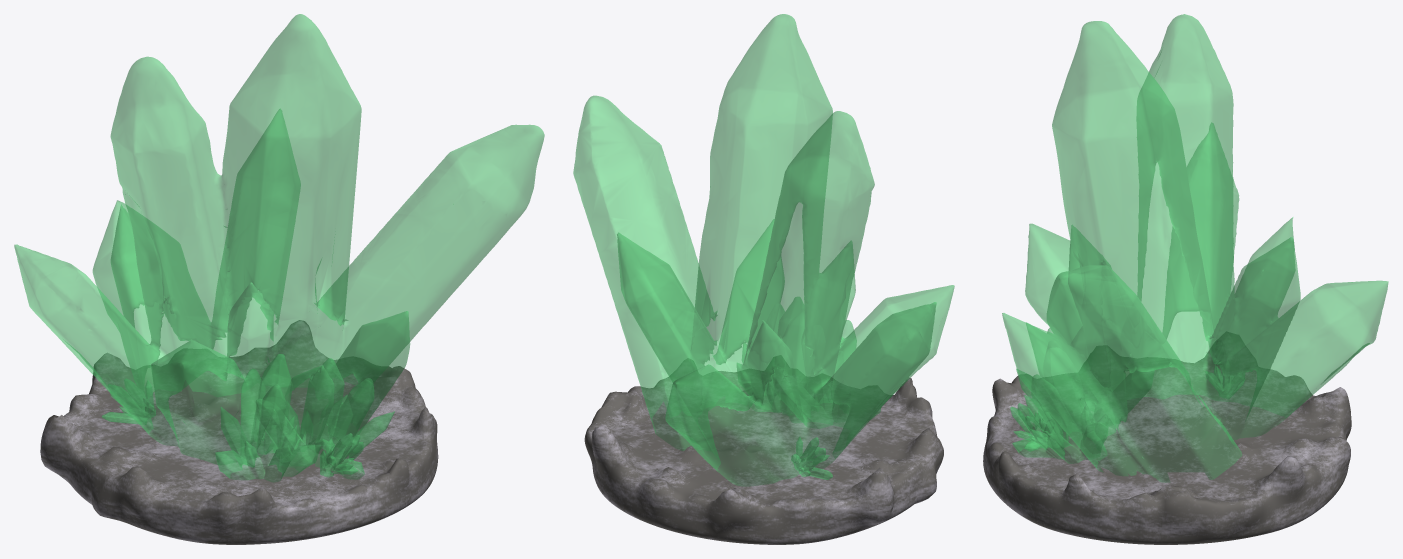
3 renders of one model, left to right at view 1: azimuth 30°, elevation 25°; view 2: azimuth 150°, elevation 25°; view 3: azimuth 270°, elevation 25°, orthographic. The views are drawn at different scales.
Visible parts, largest first — view 1: Crystal, Ground; view 2: Crystal, Ground; view 3: Crystal, Ground.
Part boxes in pixels (x1=…): Crystal: x1=14, y1=14, x2=544, y2=482; Ground: x1=40, y1=320, x2=438, y2=544; Crystal: x1=573, y1=14, x2=954, y2=486; Ground: x1=584, y1=355, x2=943, y2=544; Crystal: x1=1002, y1=14, x2=1388, y2=482; Ground: x1=983, y1=332, x2=1351, y2=544.
Size of the model in its own units: 2.05 by 2.05 by 1.63.
2 materials, 1 textured.
